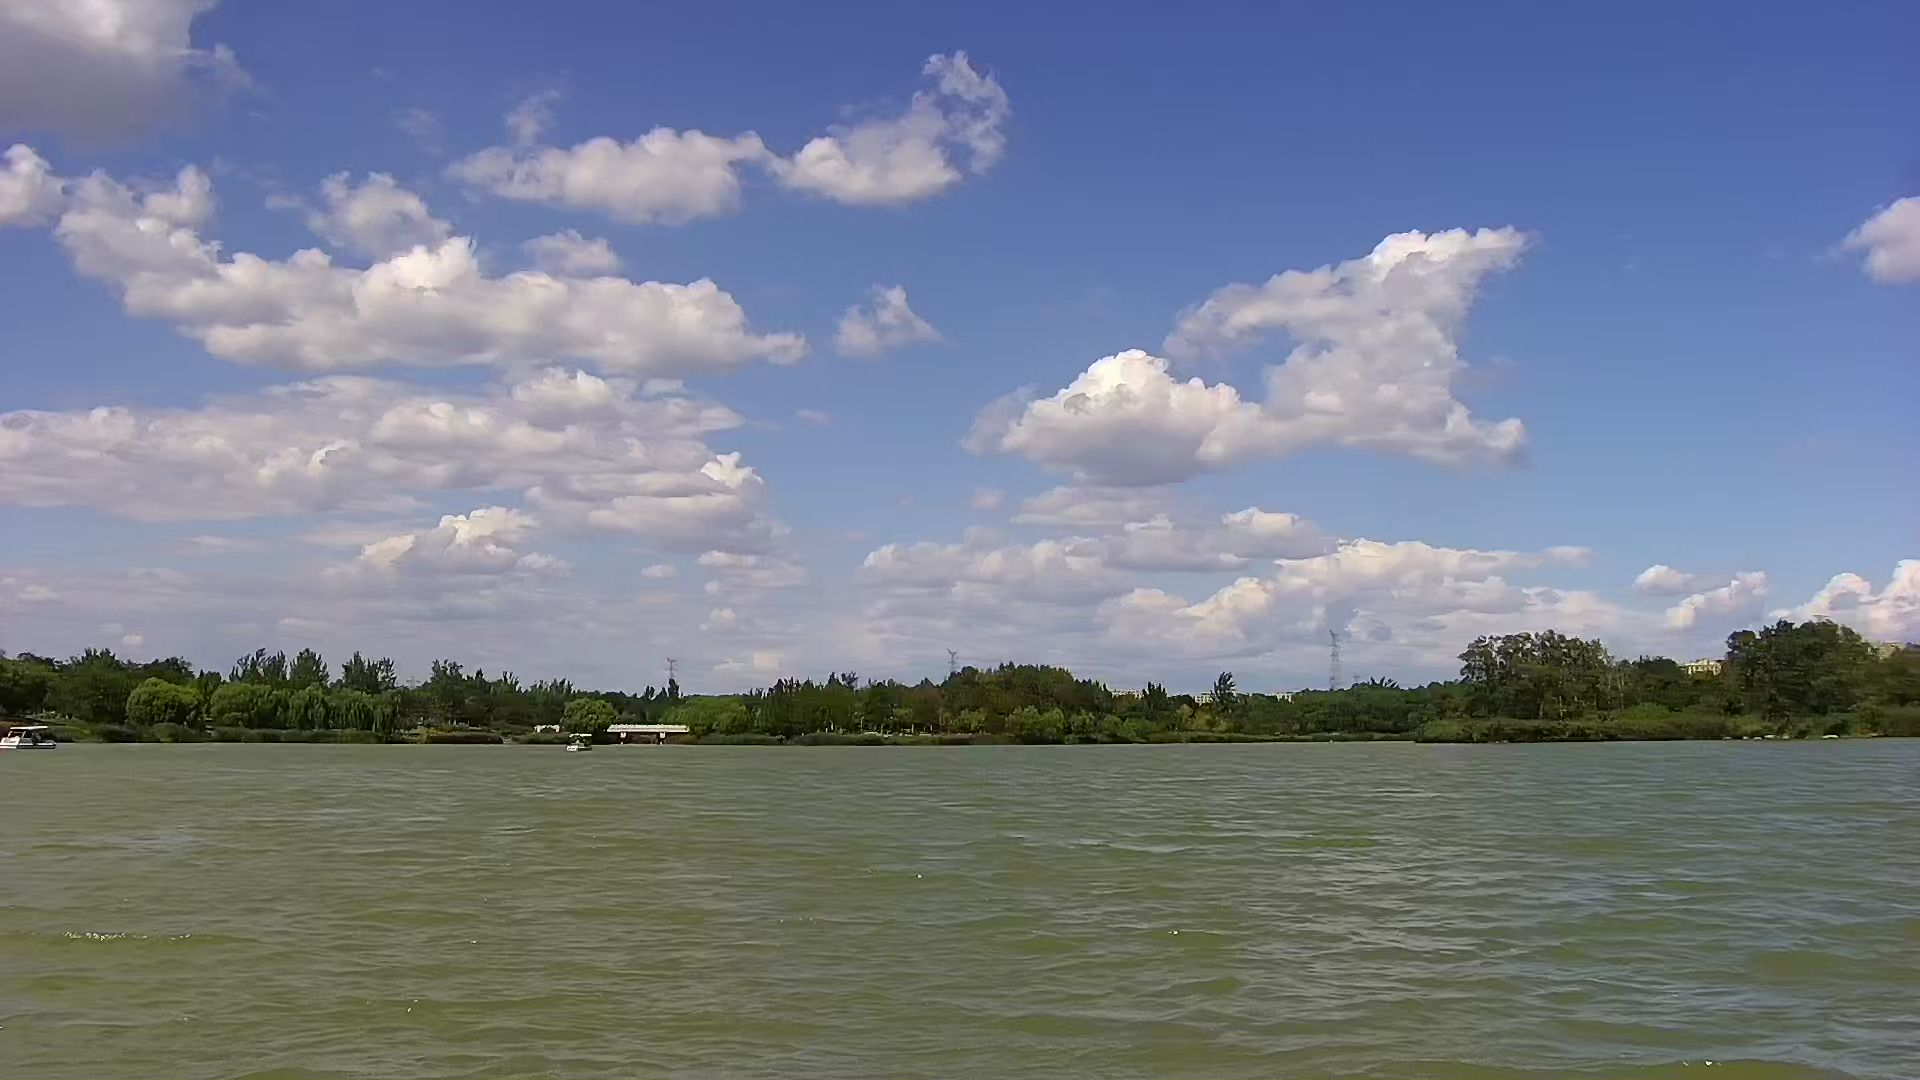boat: (5, 705, 67, 774), (556, 720, 595, 760)
bridge: (607, 723, 692, 745)
